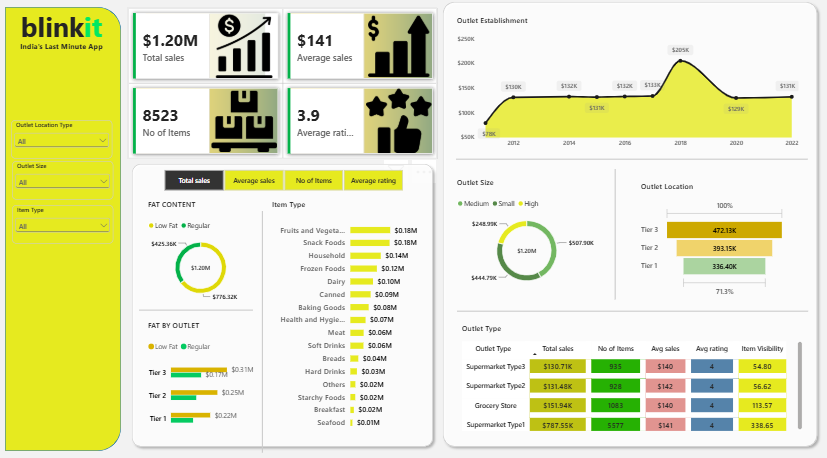

Layout of this report page (visuals, bound fields, positions):
{"tool":"powerbi","page":{"name":"Page 1","canvas":[1920,1080],"ordinal":0},"visuals":[{"type":"shape","box":[10,18.6,207.1,792.9],"z":0},{"type":"textbox","box":[34,19.1,155.3,89.4],"z":1},{"type":"textbox","box":[34,78.7,155.3,29.8],"z":2},{"type":"cardVisual","fields":{"Data":["BlinkIT Grocery Data.Total sales","BlinkIT Grocery Data.Average sales","BlinkIT Grocery Data.No of Items","BlinkIT Grocery Data.Average rating"]},"box":[229.8,19.1,553.2,270.2],"z":3},{"type":"shape","box":[229.3,289.7,555.2,522.4],"z":4},{"type":"donutChart","title":"FAT CONTENT","fields":{"Category":["BlinkIT Grocery Data.Item Fat Content"],"Y":["BlinkIT Grocery Data.Total sales","BlinkIT Grocery Data.Total sales"]},"box":[250,345.9,220.3,214.9],"z":5},{"type":"slicer","fields":{"Values":["Metrics.Metrics"]},"box":[274.1,306.9,465,40],"z":6},{"type":"clusteredBarChart","title":"FAT BY OUTLET","fields":{"Category":["BlinkIT Grocery Data.Outlet Location Type"],"Series":["BlinkIT Grocery Data.Item Fat Content"],"Y":["BlinkIT Grocery Data.Total sales"]},"box":[250,562.9,220.3,232.4],"z":7},{"type":"barChart","title":"Item Type","fields":{"Category":["BlinkIT Grocery Data.Item Type"],"Y":["BlinkIT Grocery Data.Total sales"]},"box":[471.7,346.7,291.7,445],"z":8},{"type":"shape","box":[250,500,203.3,118.3],"z":9},{"type":"shape","box":[368.6,381.4,205,431.7],"z":10},{"type":"shape","box":[783.7,0,686,811.6],"z":11},{"type":"lineChart","title":" Outlet Establishment ","fields":{"Category":["BlinkIT Grocery Data.Outlet Establishment Year"],"Y":["BlinkIT Grocery Data.Total sales"]},"box":[802.3,18.6,641.9,272.1],"z":12},{"type":"shape","box":[816.3,230.2,627.9,118.6],"z":13},{"type":"donutChart","title":"Outlet Size","fields":{"Category":["BlinkIT Grocery Data.Outlet Size"],"Y":["BlinkIT Grocery Data.Total sales"]},"box":[801.4,307.1,281.4,232.9],"z":14},{"type":"shape","box":[851.4,307.1,497.1,232.9],"z":15},{"type":"funnel","title":"Outlet Location","fields":{"Category":["BlinkIT Grocery Data.Outlet Location Type"],"Y":["Sum(BlinkIT Grocery Data.Sales)"]},"box":[1130,314.3,288.6,237.1],"z":16},{"type":"shape","box":[817.1,501.4,627,118.6],"z":17},{"type":"pivotTable","title":"Outlet Type","fields":{"Rows":["BlinkIT Grocery Data.Outlet Type"],"Values":["BlinkIT Grocery Data.Total sales","BlinkIT Grocery Data.No of Items","BlinkIT Grocery Data.Average sales","BlinkIT Grocery Data.Average rating","Sum(BlinkIT Grocery Data.Item Visibility)"]},"box":[810,568.6,640,222.9],"z":18},{"type":"slicer","fields":{"Values":["BlinkIT Grocery Data.Outlet Location Type"]},"box":[21.4,220,181.4,68.6],"z":19},{"type":"slicer","fields":{"Values":["BlinkIT Grocery Data.Outlet Size"]},"box":[22.9,292.9,181.4,68.6],"z":20},{"type":"slicer","fields":{"Values":["BlinkIT Grocery Data.Item Type"]},"box":[22.9,371.4,181.4,68.6],"z":21}]}

Visuals, with their boxes in screenshot pixels (x1, y1, x2, y2), scaled from the page's 1920x1080 canvas onto the 827x458 screenshot:
shape: l=4, t=8, r=94, b=344
textbox: l=15, t=8, r=82, b=46
textbox: l=15, t=33, r=82, b=46
cardVisual - BlinkIT Grocery Data.Total sales x BlinkIT Grocery Data.Average sales: l=99, t=8, r=337, b=123
shape: l=99, t=123, r=338, b=344
"FAT CONTENT" donutChart: l=108, t=147, r=203, b=238
slicer - Metrics.Metrics: l=118, t=130, r=318, b=147
"FAT BY OUTLET" clusteredBarChart: l=108, t=239, r=203, b=337
"Item Type" barChart: l=203, t=147, r=329, b=336
shape: l=108, t=212, r=195, b=262
shape: l=159, t=162, r=247, b=345
shape: l=338, t=0, r=633, b=344
" Outlet Establishment " lineChart: l=346, t=8, r=622, b=123
shape: l=352, t=98, r=622, b=148
"Outlet Size" donutChart: l=345, t=130, r=466, b=229
shape: l=367, t=130, r=581, b=229
"Outlet Location" funnel: l=487, t=133, r=611, b=234
shape: l=352, t=213, r=622, b=263
"Outlet Type" pivotTable: l=349, t=241, r=625, b=336
slicer - BlinkIT Grocery Data.Outlet Location Type: l=9, t=93, r=87, b=122
slicer - BlinkIT Grocery Data.Outlet Size: l=10, t=124, r=88, b=153
slicer - BlinkIT Grocery Data.Item Type: l=10, t=158, r=88, b=187
